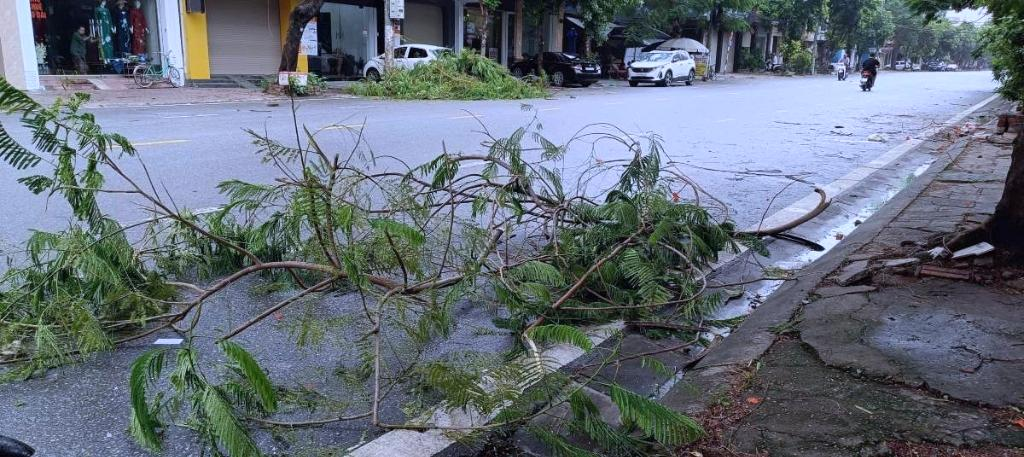ROAD_OBSTACLE: (0, 160, 810, 457)
